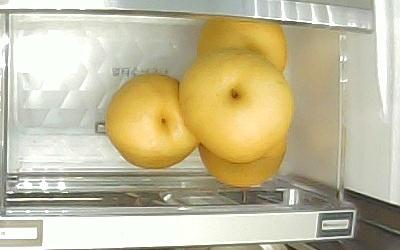pear: (179, 49, 293, 164), (105, 73, 200, 168), (196, 16, 288, 73), (198, 140, 287, 187)
